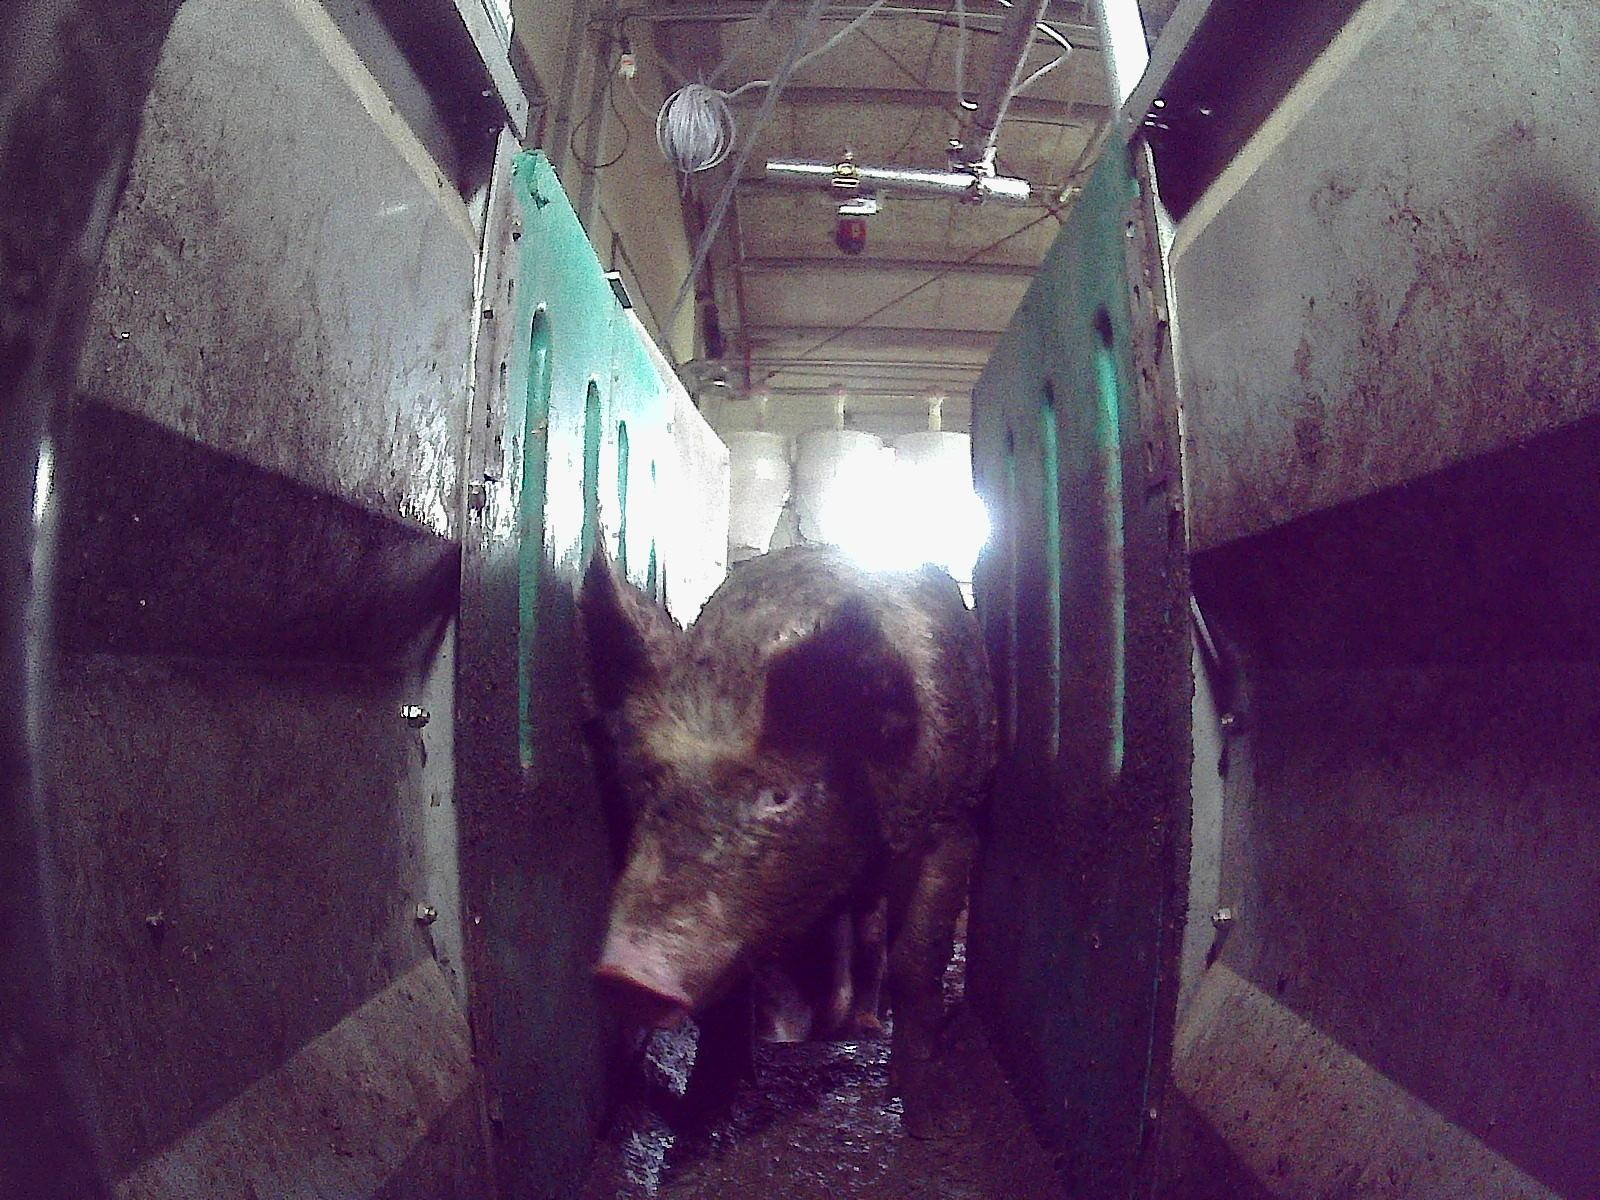Face: (591, 669, 831, 1027)
